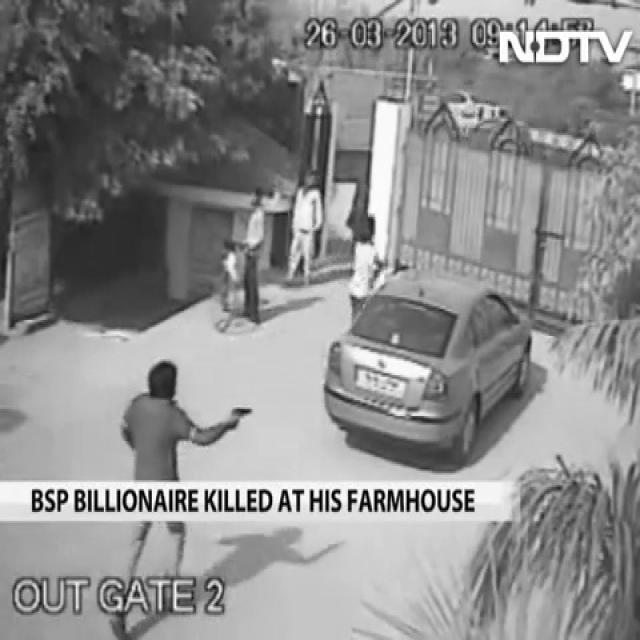Gun: (226, 396, 256, 432)
